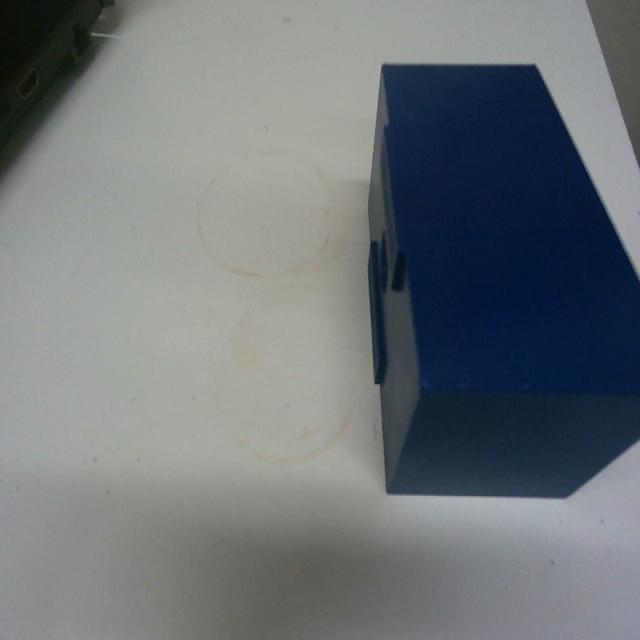Blue Cuboid: (364, 59, 639, 500)
